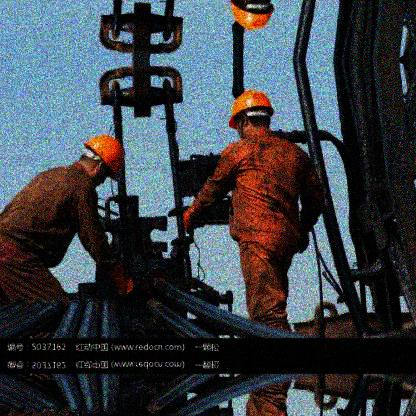helmet: (79, 135, 128, 187), (227, 91, 275, 139)
